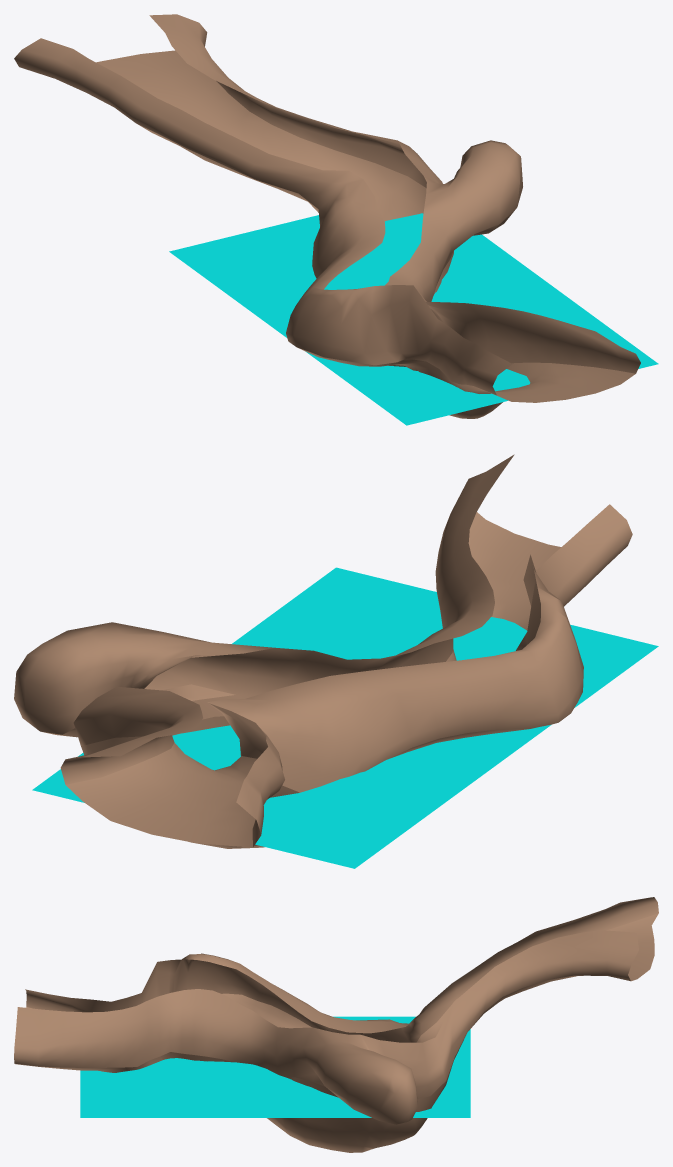
File: Caverna.fbx
The picture shows the model from 3 angles, top to bottom: view 1: azimuth 30°, elevation 25°; view 2: azimuth 150°, elevation 25°; view 3: azimuth 270°, elevation 25°; orthographic projection. The views are drawn at different scales.
Parts seen in each view (by area): view 1: ParedeDireita, Agua, ParedeEsquerda, Chao; view 2: ParedeDireita, Agua, ParedeEsquerda, Chao; view 3: ParedeEsquerda, Agua, ParedeDireita, Chao.
Part boxes in pixels (x1=…): ParedeDireita: x1=14, y1=38, x2=512, y2=395; Agua: x1=169, y1=213, x2=658, y2=425; ParedeEsquerda: x1=149, y1=14, x2=640, y2=373; Chao: x1=96, y1=50, x2=635, y2=418; ParedeDireita: x1=207, y1=504, x2=632, y2=846; Agua: x1=32, y1=567, x2=658, y2=868; ParedeEsquerda: x1=14, y1=454, x2=514, y2=784; Chao: x1=43, y1=512, x2=560, y2=848; ParedeEsquerda: x1=14, y1=930, x2=638, y2=1124; Agua: x1=80, y1=1016, x2=470, y2=1117; ParedeDireita: x1=25, y1=897, x2=658, y2=1042; Chao: x1=15, y1=913, x2=658, y2=1152.
Size of the model in its own units: 23.5 by 14.55 by 46.14.
